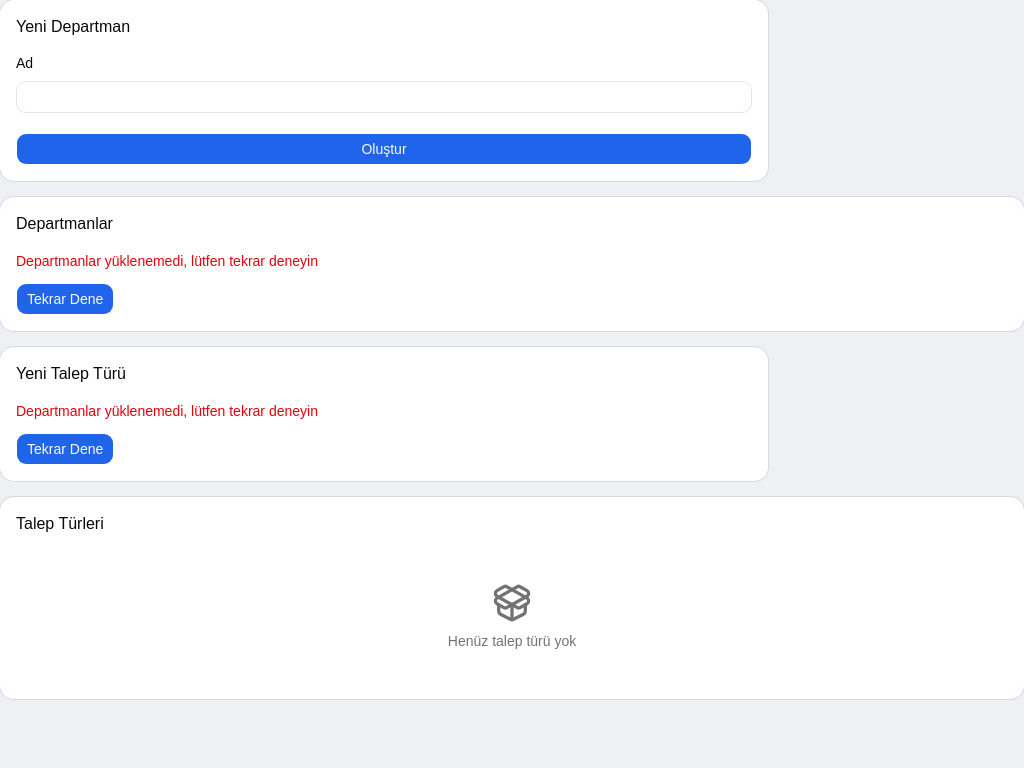
AdminCatalog page › shows a departments error in two places with a working retry
Expected: the number of messages is 2, 16,251 -> 318,271; 16,401 -> 318,421
Expected: the 1st message "Departmanlar yüklenemedi, lütfen tekrar deneyin" is shown, 16,251 -> 318,271
Step 1. Click the 1st button "Tekrar Dene" → (65, 299), box 16,283 -> 114,315
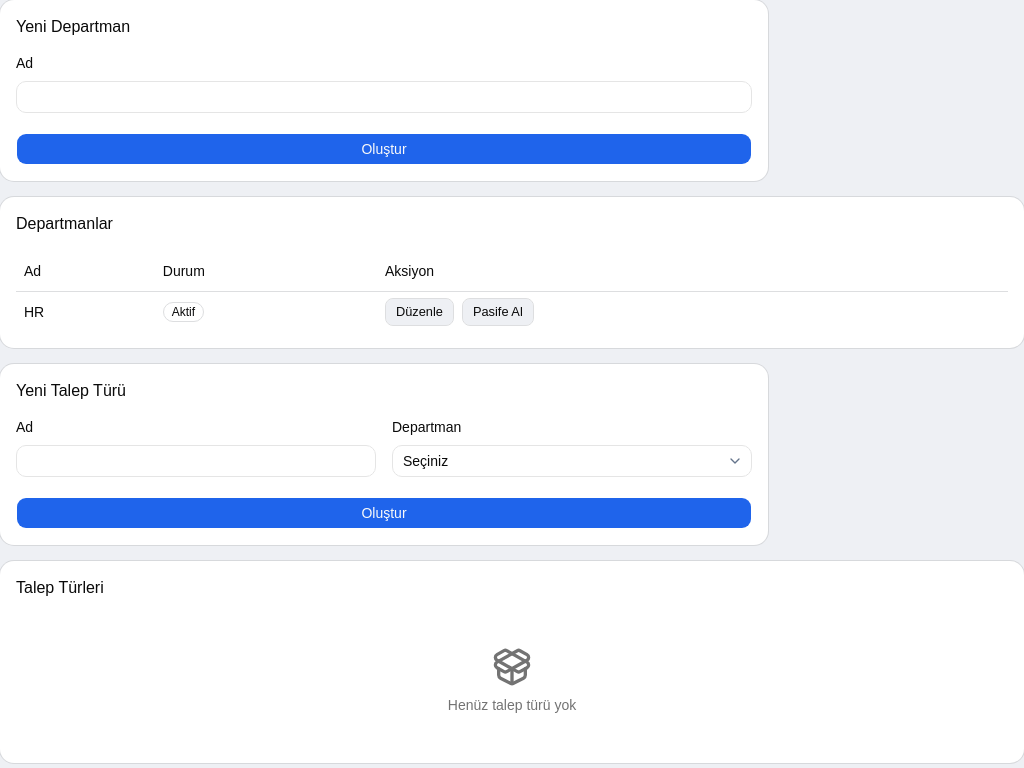
Expected: the cell "HR" is shown, 16,291 -> 155,332
Expected: the message "Departmanlar yüklenemedi, lütfen tekrar deneyin" is gone
